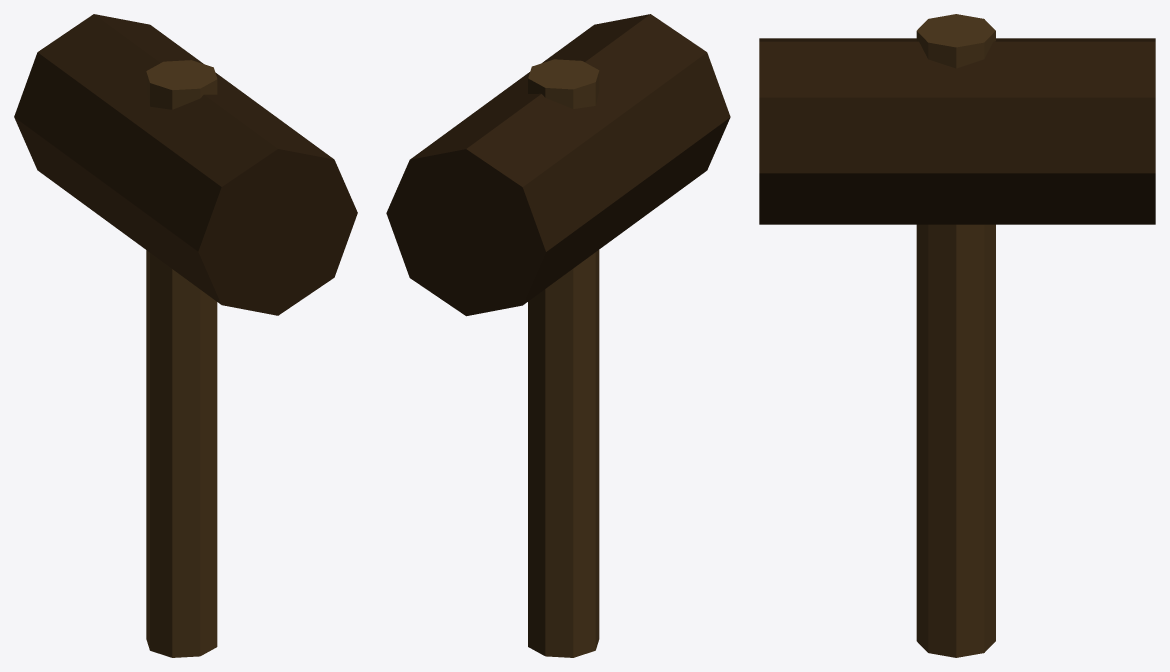
Rendered from hammer.fbx.
3 views of the same model, side by side, from view 1: azimuth 30°, elevation 25°; view 2: azimuth 150°, elevation 25°; view 3: azimuth 270°, elevation 25° (orthographic). The views are drawn at different scales.
Parts seen in each view (by area): view 1: Cylinder.001, Cylinder; view 2: Cylinder.001, Cylinder; view 3: Cylinder.001, Cylinder.
Boxes of the visible parts, x1,y1,x2,y2 form: Cylinder.001: (14, 14, 357, 315); Cylinder: (146, 60, 217, 657); Cylinder.001: (386, 14, 730, 316); Cylinder: (528, 59, 599, 657); Cylinder.001: (759, 38, 1155, 224); Cylinder: (916, 14, 995, 657).
Bounding box in the file's own units: 50 × 170 × 100.
